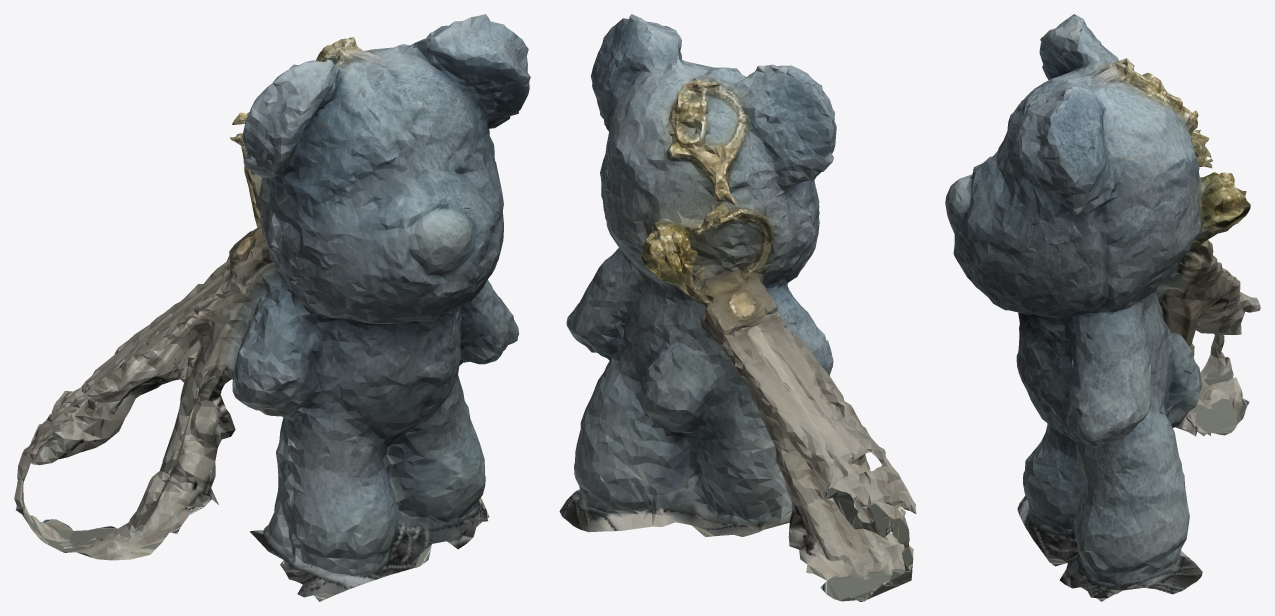
The model's file is bearc.glb.
The picture shows the model from 3 angles, left to right: view 1: azimuth 30°, elevation 25°; view 2: azimuth 150°, elevation 25°; view 3: azimuth 270°, elevation 25°; orthographic projection. The views are drawn at different scales.
Visible parts, largest first — view 1: 0da98ca2-f829-410c-8c11-96481186384c; view 2: 0da98ca2-f829-410c-8c11-96481186384c; view 3: 0da98ca2-f829-410c-8c11-96481186384c.
Boxes of the visible parts, <box> form: 0da98ca2-f829-410c-8c11-96481186384c: <box>14,14,530,601</box>; 0da98ca2-f829-410c-8c11-96481186384c: <box>559,14,916,601</box>; 0da98ca2-f829-410c-8c11-96481186384c: <box>945,14,1260,601</box>.
Bounding box in the file's own units: 0.4346 × 0.5 × 0.2833.
1 material, 1 textured.
